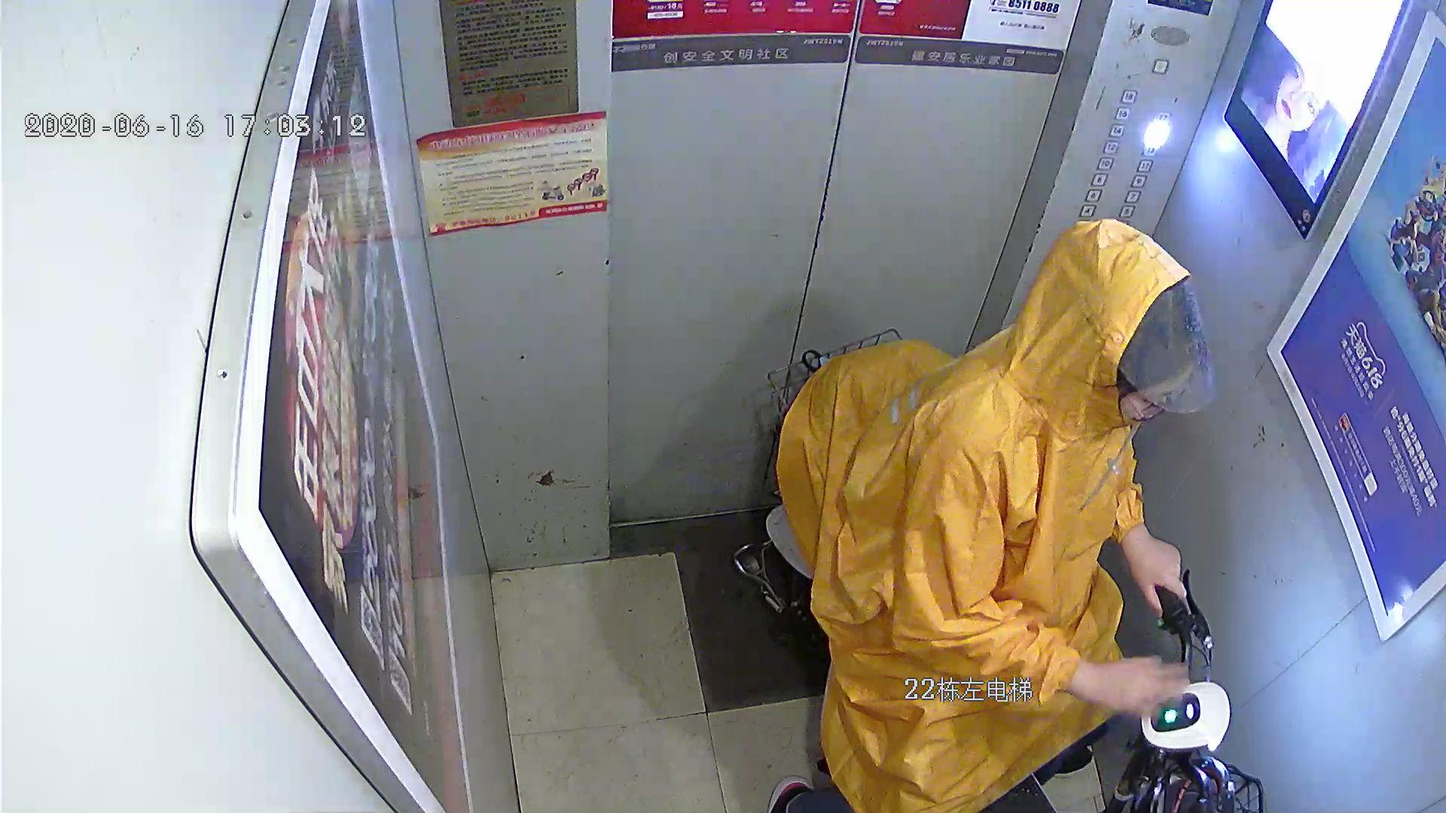Electric-bicycle: (758, 332, 1260, 811)
